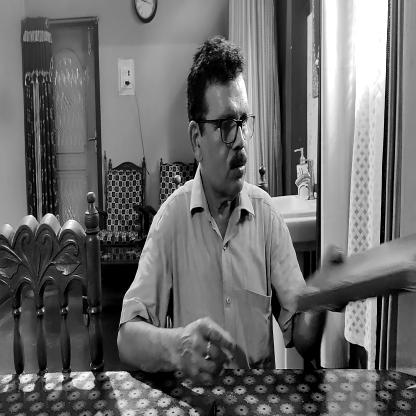Distracted: (185, 69, 257, 202)
